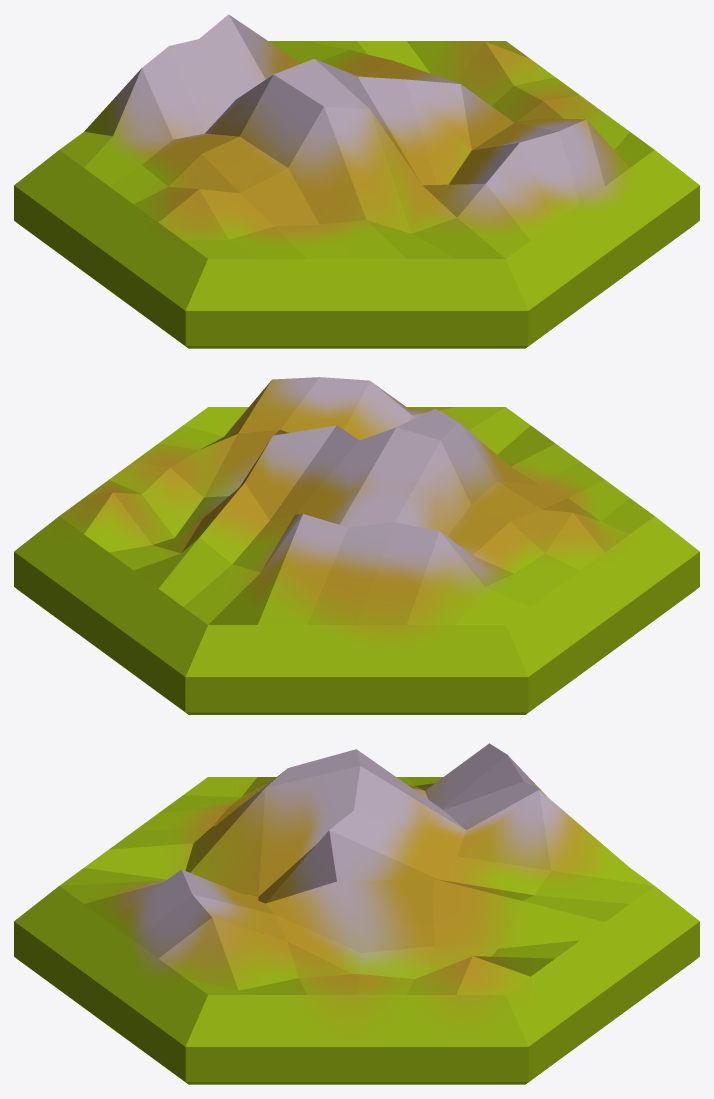
The model's file is mountain.glb.
The picture shows the model from 3 angles, top to bottom: view 1: azimuth 30°, elevation 25°; view 2: azimuth 150°, elevation 25°; view 3: azimuth 270°, elevation 25°; orthographic projection.
Parts seen in each view (by area): view 1: Cylinder; view 2: Cylinder; view 3: Cylinder.
Boxes of the visible parts, bbox=[...] form: Cylinder: bbox=[14, 14, 699, 348]; Cylinder: bbox=[14, 377, 699, 714]; Cylinder: bbox=[14, 743, 699, 1084].
Bounding box in the file's own units: 1.73 × 0.5644 × 2.
Materials: 1 (1 with a texture image).
